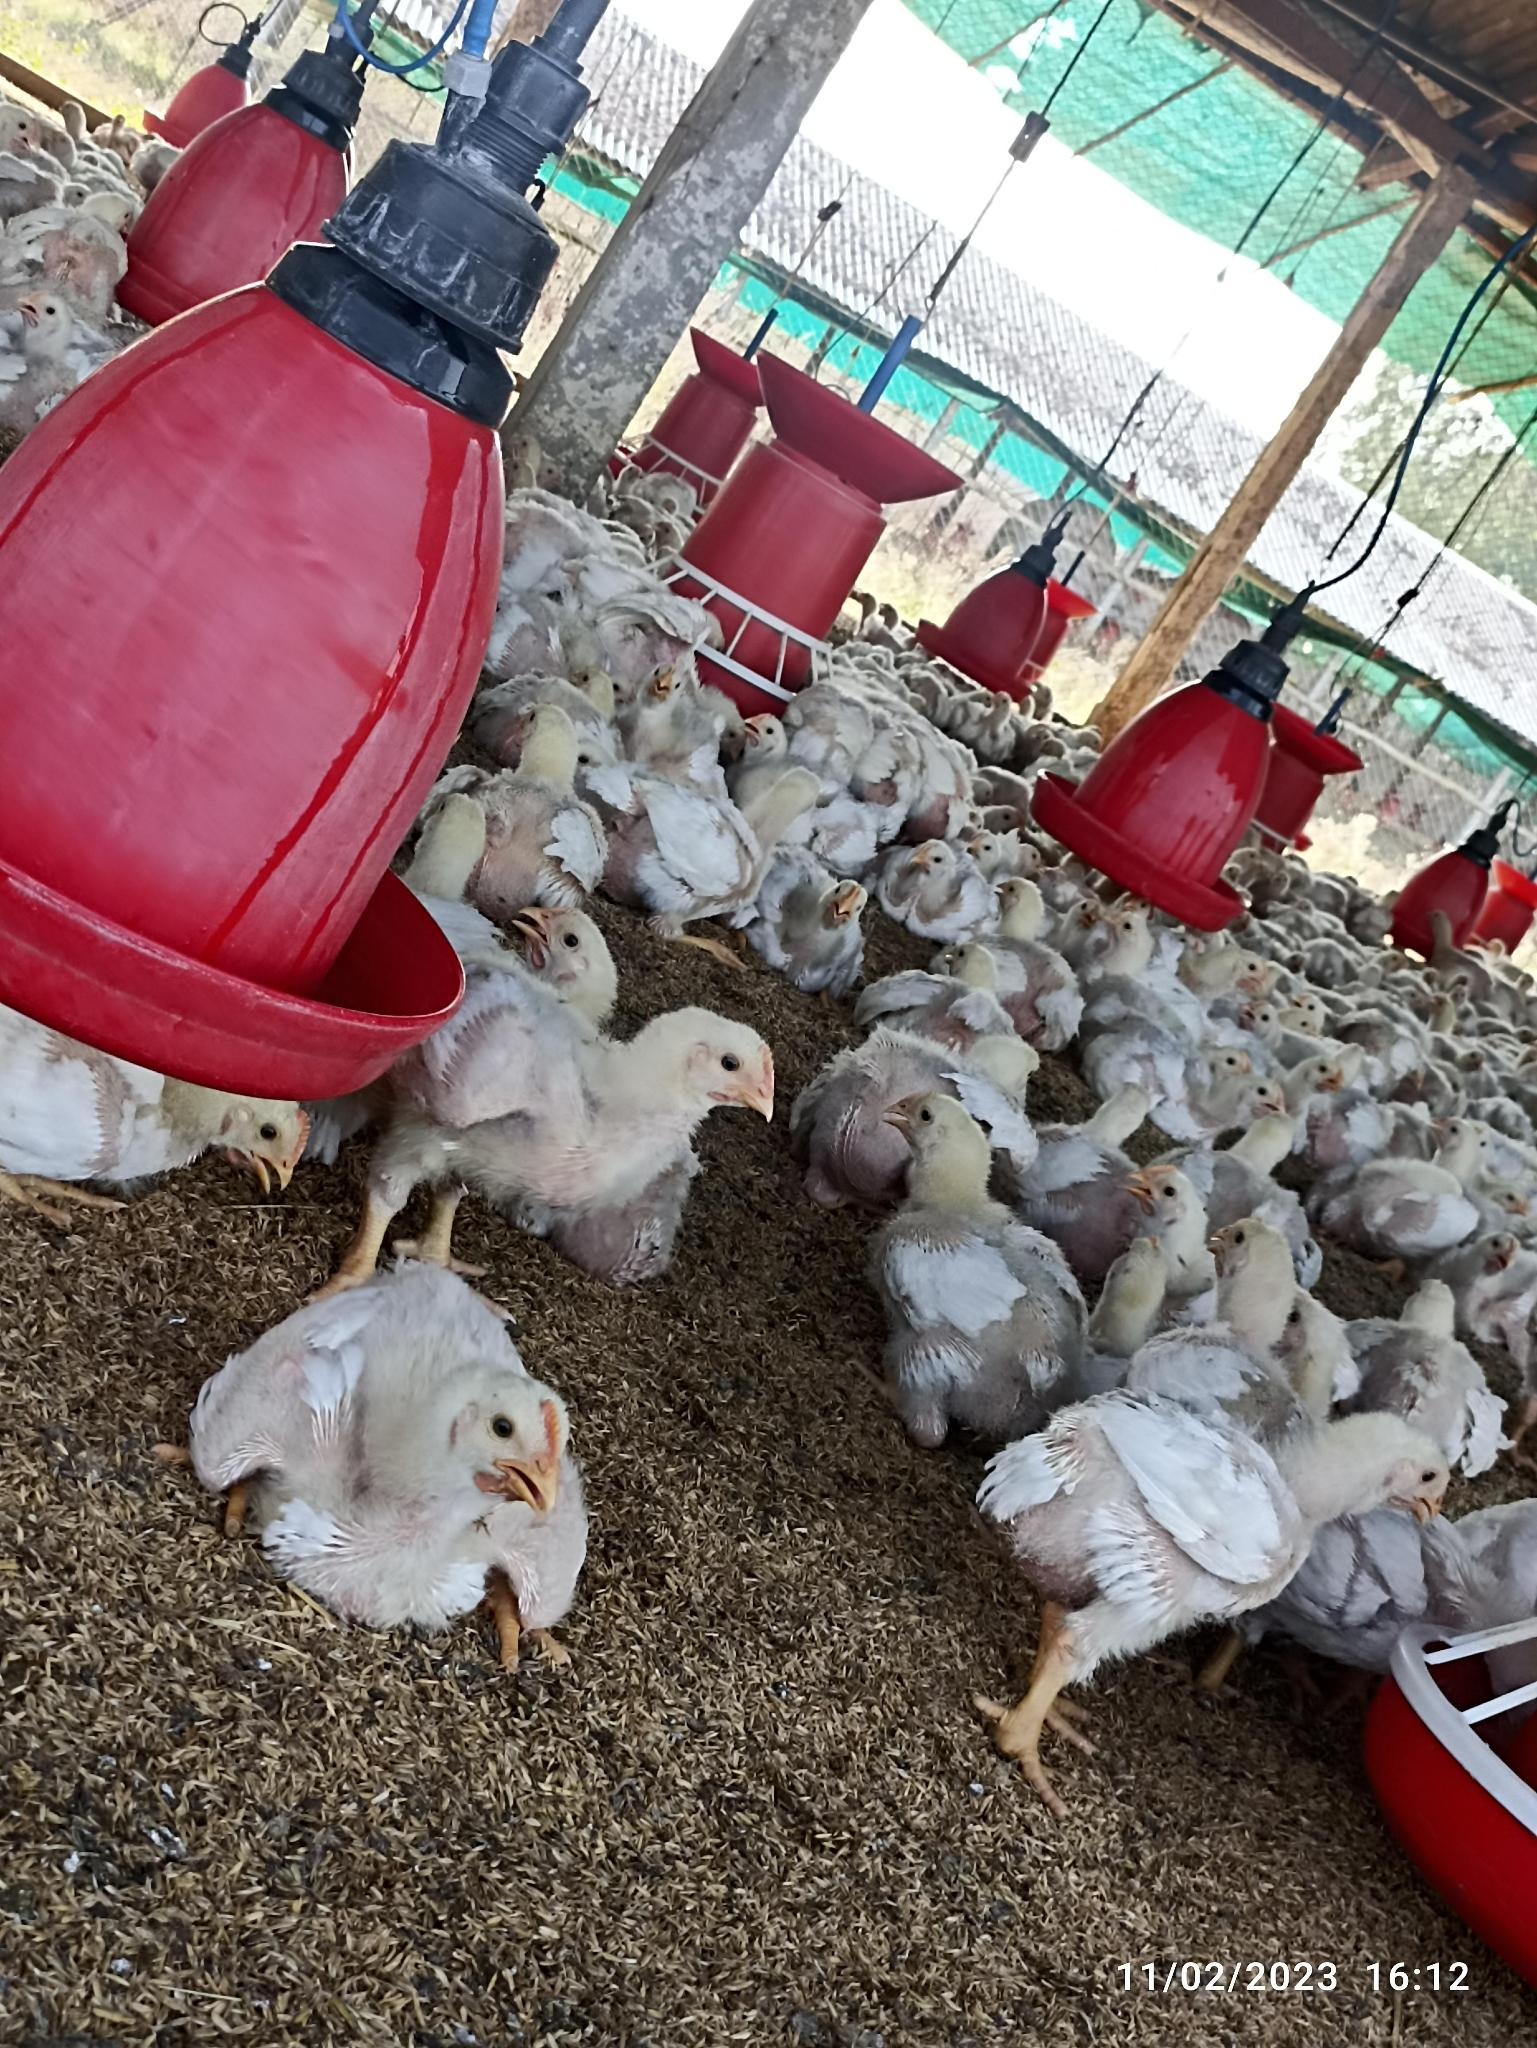Pollos: (200, 1270, 591, 1620), (996, 1386, 1455, 1624), (425, 991, 785, 1212), (869, 1093, 1074, 1396), (450, 700, 604, 913), (1101, 1014, 1288, 1147), (739, 713, 856, 851), (10, 286, 136, 381), (762, 865, 865, 978), (899, 838, 986, 925)
